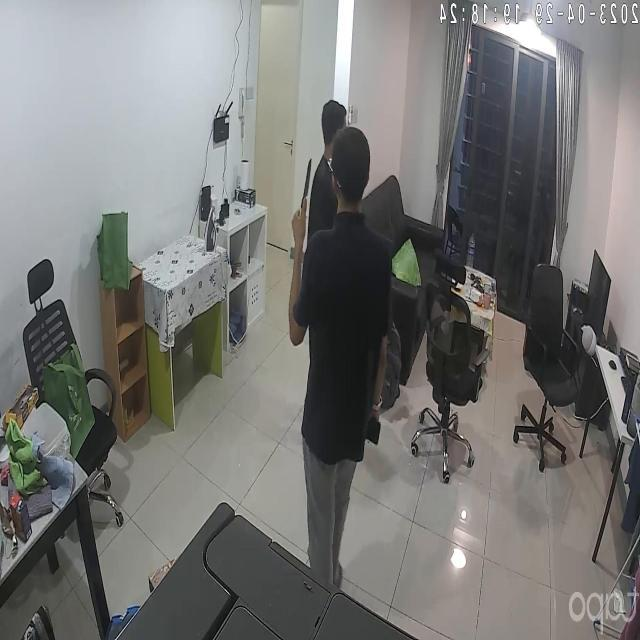Knife: (296, 153, 322, 215)
